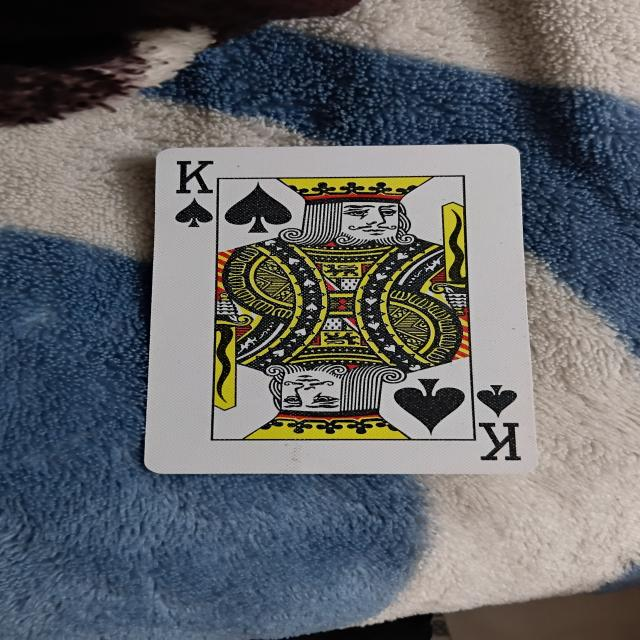KS: (139, 134, 535, 479)
